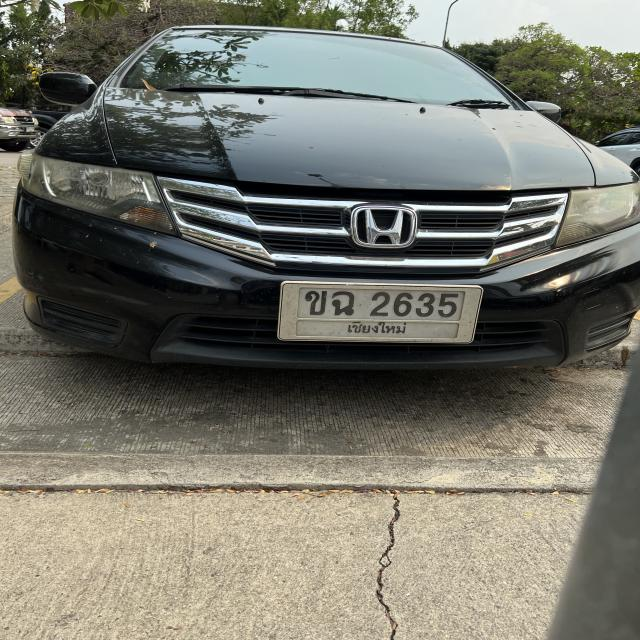license_plate: (275, 278, 483, 346)
